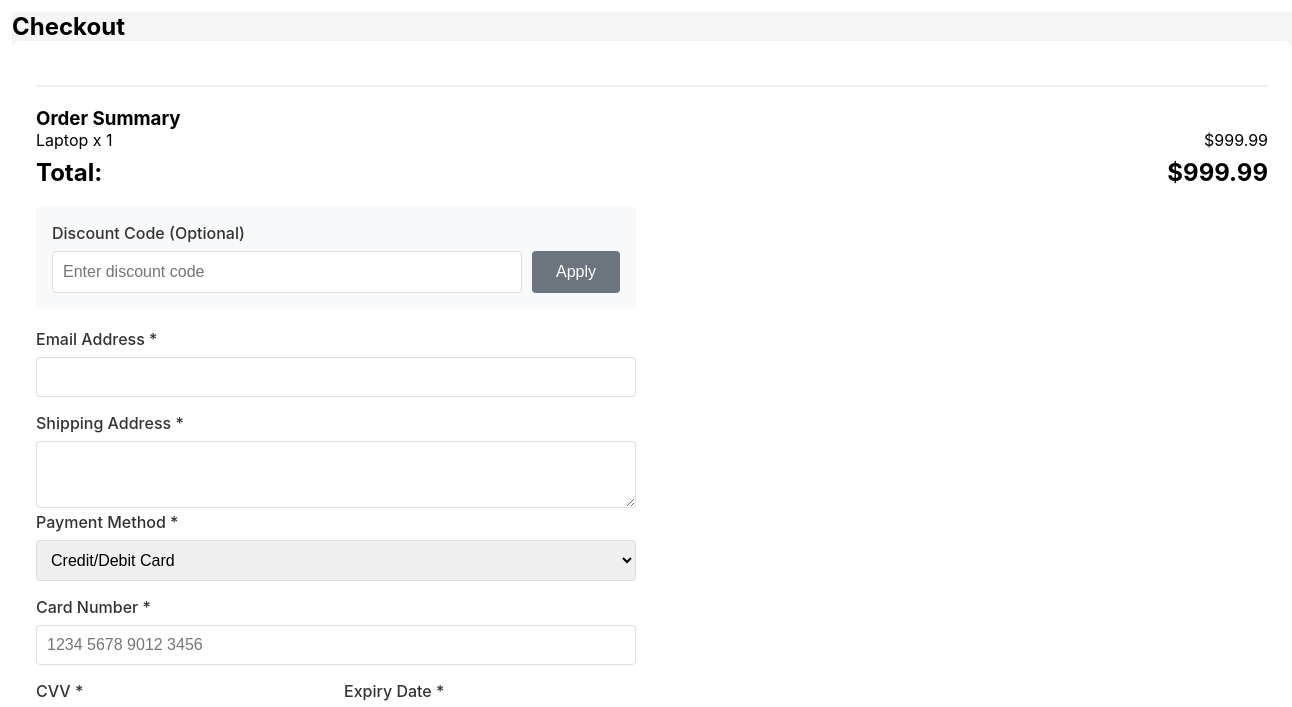
Test case: Checkout Component › handles discount code error
The image size is (1292, 707).
Step 1. Type "INVALID" into the field with placeholder "Enter discount code" → (287, 272), box x1=52 y1=251 x2=522 y2=293
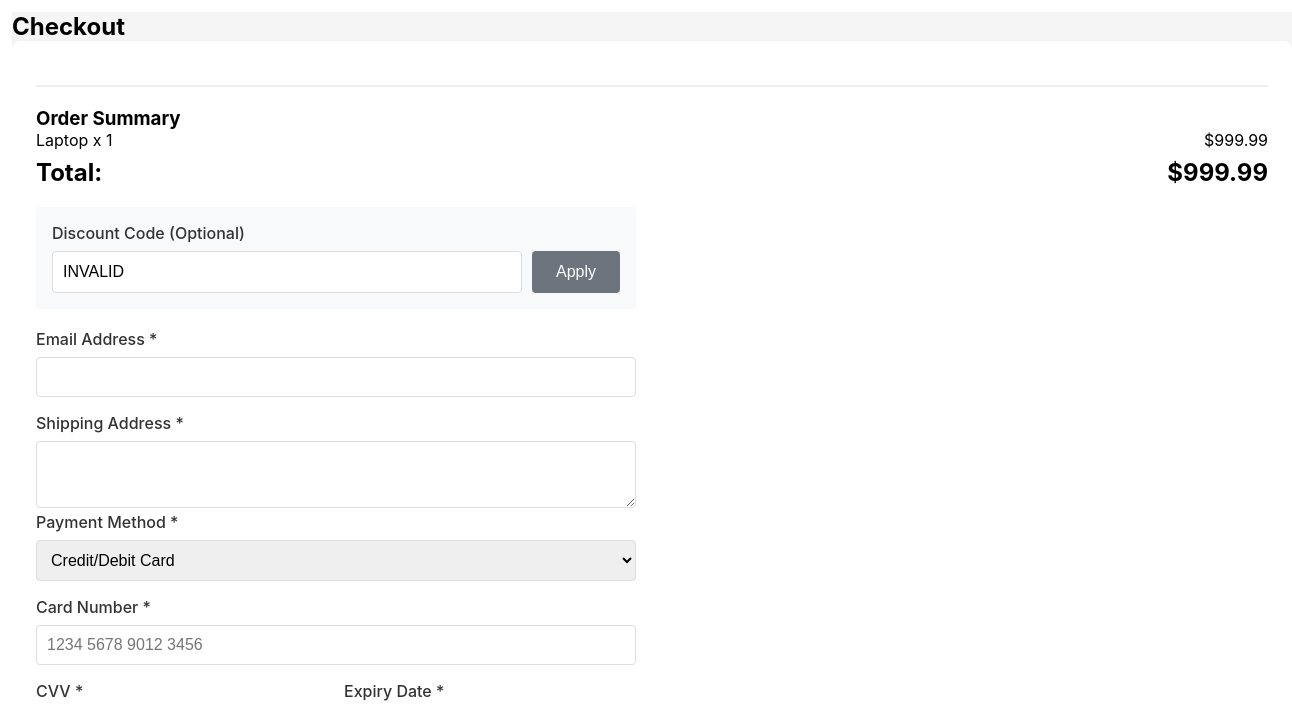
Step 2. Click the button "Apply" → (576, 272), box x1=532 y1=251 x2=620 y2=293
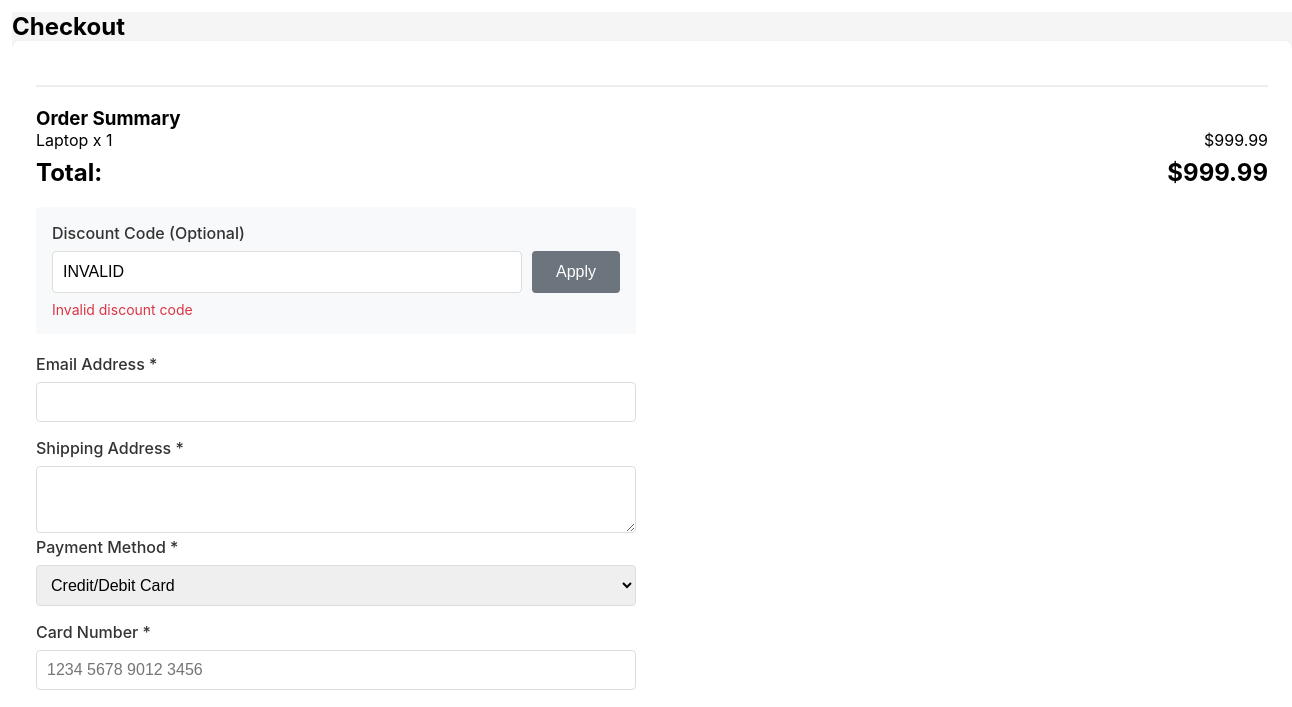
Expected: the text "Invalid discount code" is shown, x1=52 y1=301 x2=193 y2=318
